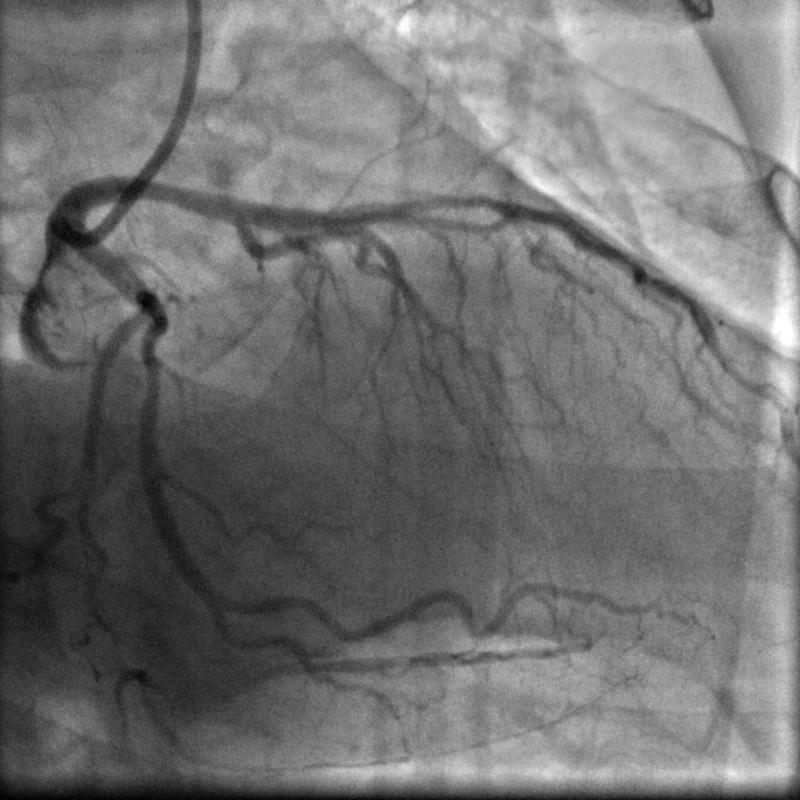Stenosis: (131, 303, 174, 366)
